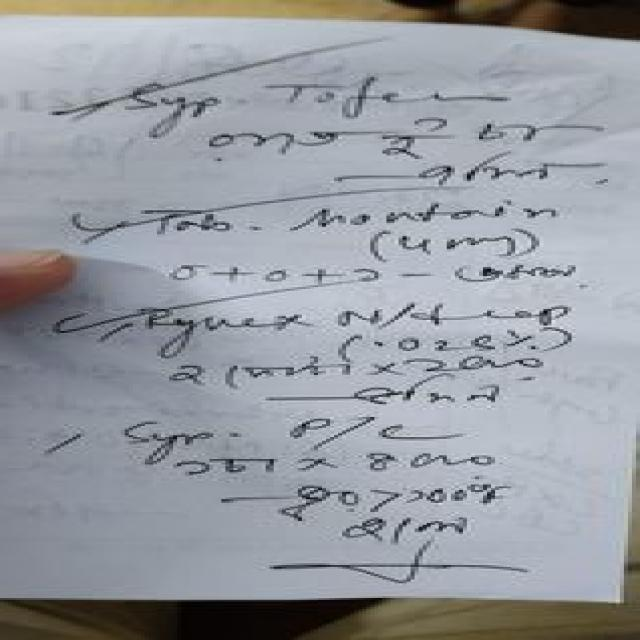Montair: (275, 195, 567, 237)
P-C: (273, 410, 469, 455)
Rynex: (81, 284, 321, 350)
Tofen: (266, 67, 483, 128)
